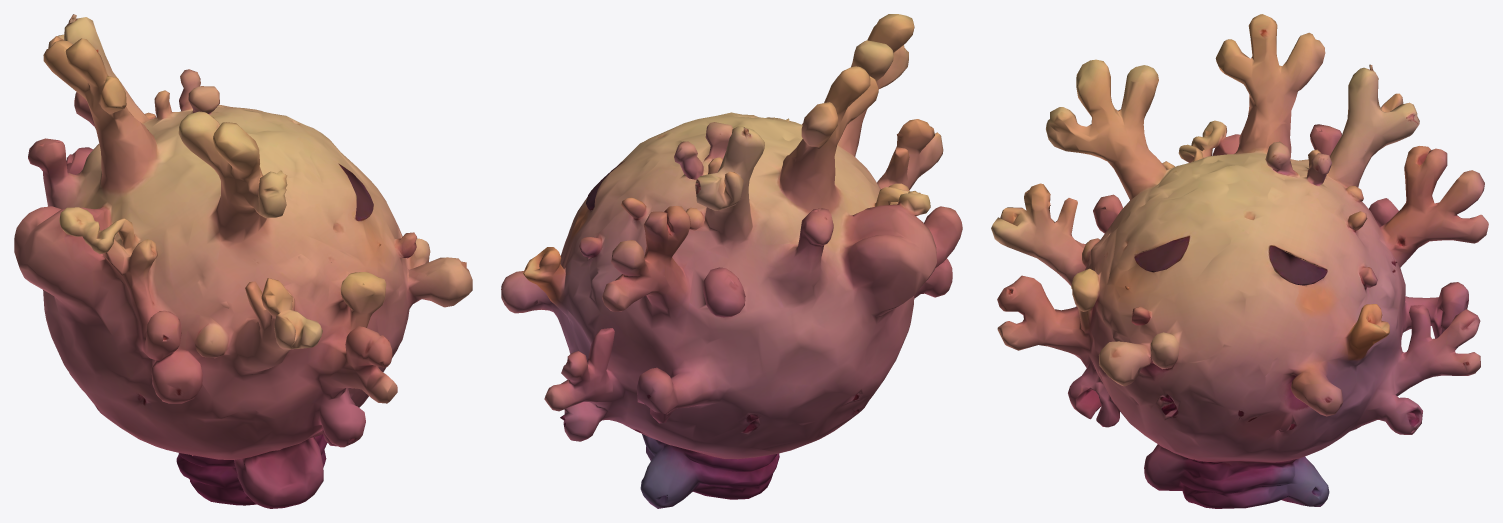
File: head.glb
3 views of the same model, side by side, from view 1: azimuth 30°, elevation 25°; view 2: azimuth 150°, elevation 25°; view 3: azimuth 270°, elevation 25° (orthographic). The views are drawn at different scales.
Visible parts, largest first — view 1: tripo_node_7db5cf24-c13d-4ef5-bb2d-4be3e82fdc83; view 2: tripo_node_7db5cf24-c13d-4ef5-bb2d-4be3e82fdc83; view 3: tripo_node_7db5cf24-c13d-4ef5-bb2d-4be3e82fdc83.
Boxes of the visible parts, x1,y1,x2,y2 form: tripo_node_7db5cf24-c13d-4ef5-bb2d-4be3e82fdc83: (14, 14, 472, 508); tripo_node_7db5cf24-c13d-4ef5-bb2d-4be3e82fdc83: (501, 14, 962, 508); tripo_node_7db5cf24-c13d-4ef5-bb2d-4be3e82fdc83: (991, 14, 1488, 508).
Size of the model in its own units: 0.8147 by 0.9321 by 1.
1 material, 1 textured.
